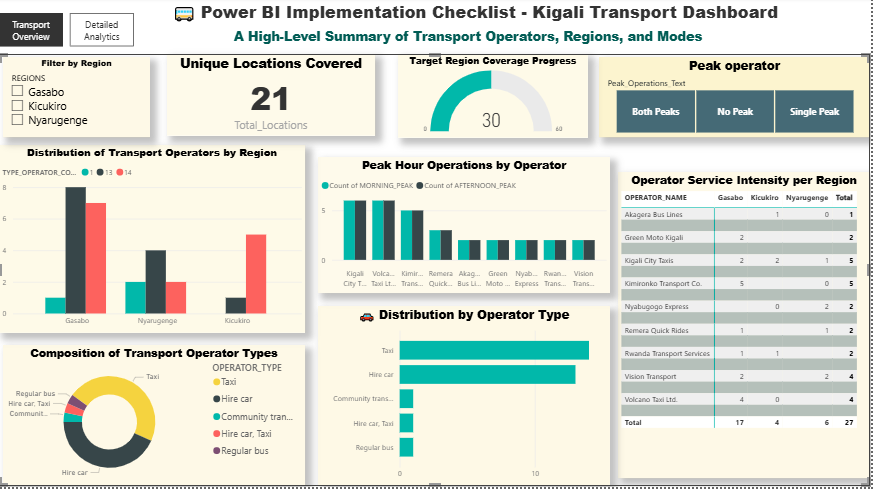

The page's visual inventory and layout, read from the dashboard file:
{"tool":"powerbi","page":{"name":"Transport Overview","canvas":[1280,720],"ordinal":0},"visuals":[{"type":"textbox","box":[166.3,0,1068.3,48.7],"z":0},{"type":"clusteredColumnChart","title":"Distribution of Transport Operators by Region","fields":{"Category":["kigali_transport_analysis_results.REGIONS"],"Y":["CountNonNull(kigali_transport_analysis_results.REFERENCE_ID)"],"Series":["kigali_transport_analysis_results.TYPE_OPERATOR_COUNT"]},"box":[0,217.9,449.6,276.2],"z":0,"group":"g1"},{"type":"group","id":"g1","title":"Group 1","box":[0,83.8,1279.8,634.8],"z":1000},{"type":"clusteredColumnChart","title":"Peak Hour Operations by Operator","fields":{"Category":["kigali_transport_analysis_results.OPERATOR_NAME"],"Y":["CountNonNull(kigali_transport_analysis_results.MORNING_PEAK)","CountNonNull(kigali_transport_analysis_results.AFTERNOON_PEAK)"]},"box":[468.7,235.5,429.1,199.8],"z":1000,"group":"g1"},{"type":"pageNavigator","box":[0,23.5,198.4,50],"z":2000},{"type":"donutChart","title":"Composition of Transport Operator Types","fields":{"Category":["kigali_transport_analysis_results.OPERATOR_TYPE"],"Y":["CountNonNull(kigali_transport_analysis_results.OPERATOR_NAME)"]},"box":[5.9,511.8,443.8,207.2],"z":2000,"group":"g1"},{"type":"textbox","box":[254.2,38.2,869.9,50],"z":3000},{"type":"pivotTable","title":"Operator Service Intensity per Region","fields":{"Columns":["kigali_transport_analysis_results.REGIONS"],"Rows":["kigali_transport_analysis_results.OPERATOR_NAME"],"Values":["Sum(kigali_transport_analysis_results.PEAK_OPERATIONS_COUNT)"]},"box":[909.6,256.6,370.3,449.8],"z":3000,"group":"g1"},{"type":"slicer","title":"Peak operator","fields":{"Values":["kigali_transport_analysis_results.Peak_Operations_Text"]},"box":[881.6,88.6,398.2,117.6],"z":4000,"group":"g1"},{"type":"slicer","title":"Filter by Region","fields":{"Values":["kigali_transport_analysis_results.REGIONS"]},"box":[5.9,87.5,216,117.6],"z":5000,"group":"g1"},{"type":"clusteredBarChart","title":"🚗 Distribution by Operator Type","fields":{"Category":["kigali_transport_analysis_results.OPERATOR_TYPE"],"Y":["CountNonNull(kigali_transport_analysis_results.OPERATOR_NAME)"]},"box":[468.7,454.4,429.1,264.5],"z":6000,"group":"g1"},{"type":"card","title":"Unique Locations Covered","fields":{"Values":["kigali_transport_analysis_results.Total_Locations"]},"box":[246.9,83.8,305.6,120.5],"z":7000,"group":"g1"},{"type":"gauge","title":"Target Region Coverage Progress","fields":{"Y":["CountNonNull(kigali_transport_analysis_results.REGIONS)"]},"box":[586.3,84.2,279.2,123.4],"z":8000,"group":"g1"}]}

Visuals, with their boxes in screenshot pixels (x1, y1, x2, y2), scaled from the page's 1280x720 canvas onto the 873x493 screenshot:
textbox: box(113, 0, 842, 33)
"Distribution of Transport Operators by Region" clusteredColumnChart: box(0, 149, 307, 338)
"Group 1" group: box(0, 57, 872, 492)
"Peak Hour Operations by Operator" clusteredColumnChart: box(320, 161, 612, 298)
pageNavigator: box(0, 16, 135, 50)
"Composition of Transport Operator Types" donutChart: box(4, 350, 307, 492)
textbox: box(173, 26, 767, 60)
"Operator Service Intensity per Region" pivotTable: box(620, 176, 872, 484)
"Peak operator" slicer: box(601, 61, 872, 141)
"Filter by Region" slicer: box(4, 60, 151, 140)
"🚗 Distribution by Operator Type" clusteredBarChart: box(320, 311, 612, 492)
"Unique Locations Covered" card: box(168, 57, 377, 140)
"Target Region Coverage Progress" gauge: box(400, 58, 590, 142)
